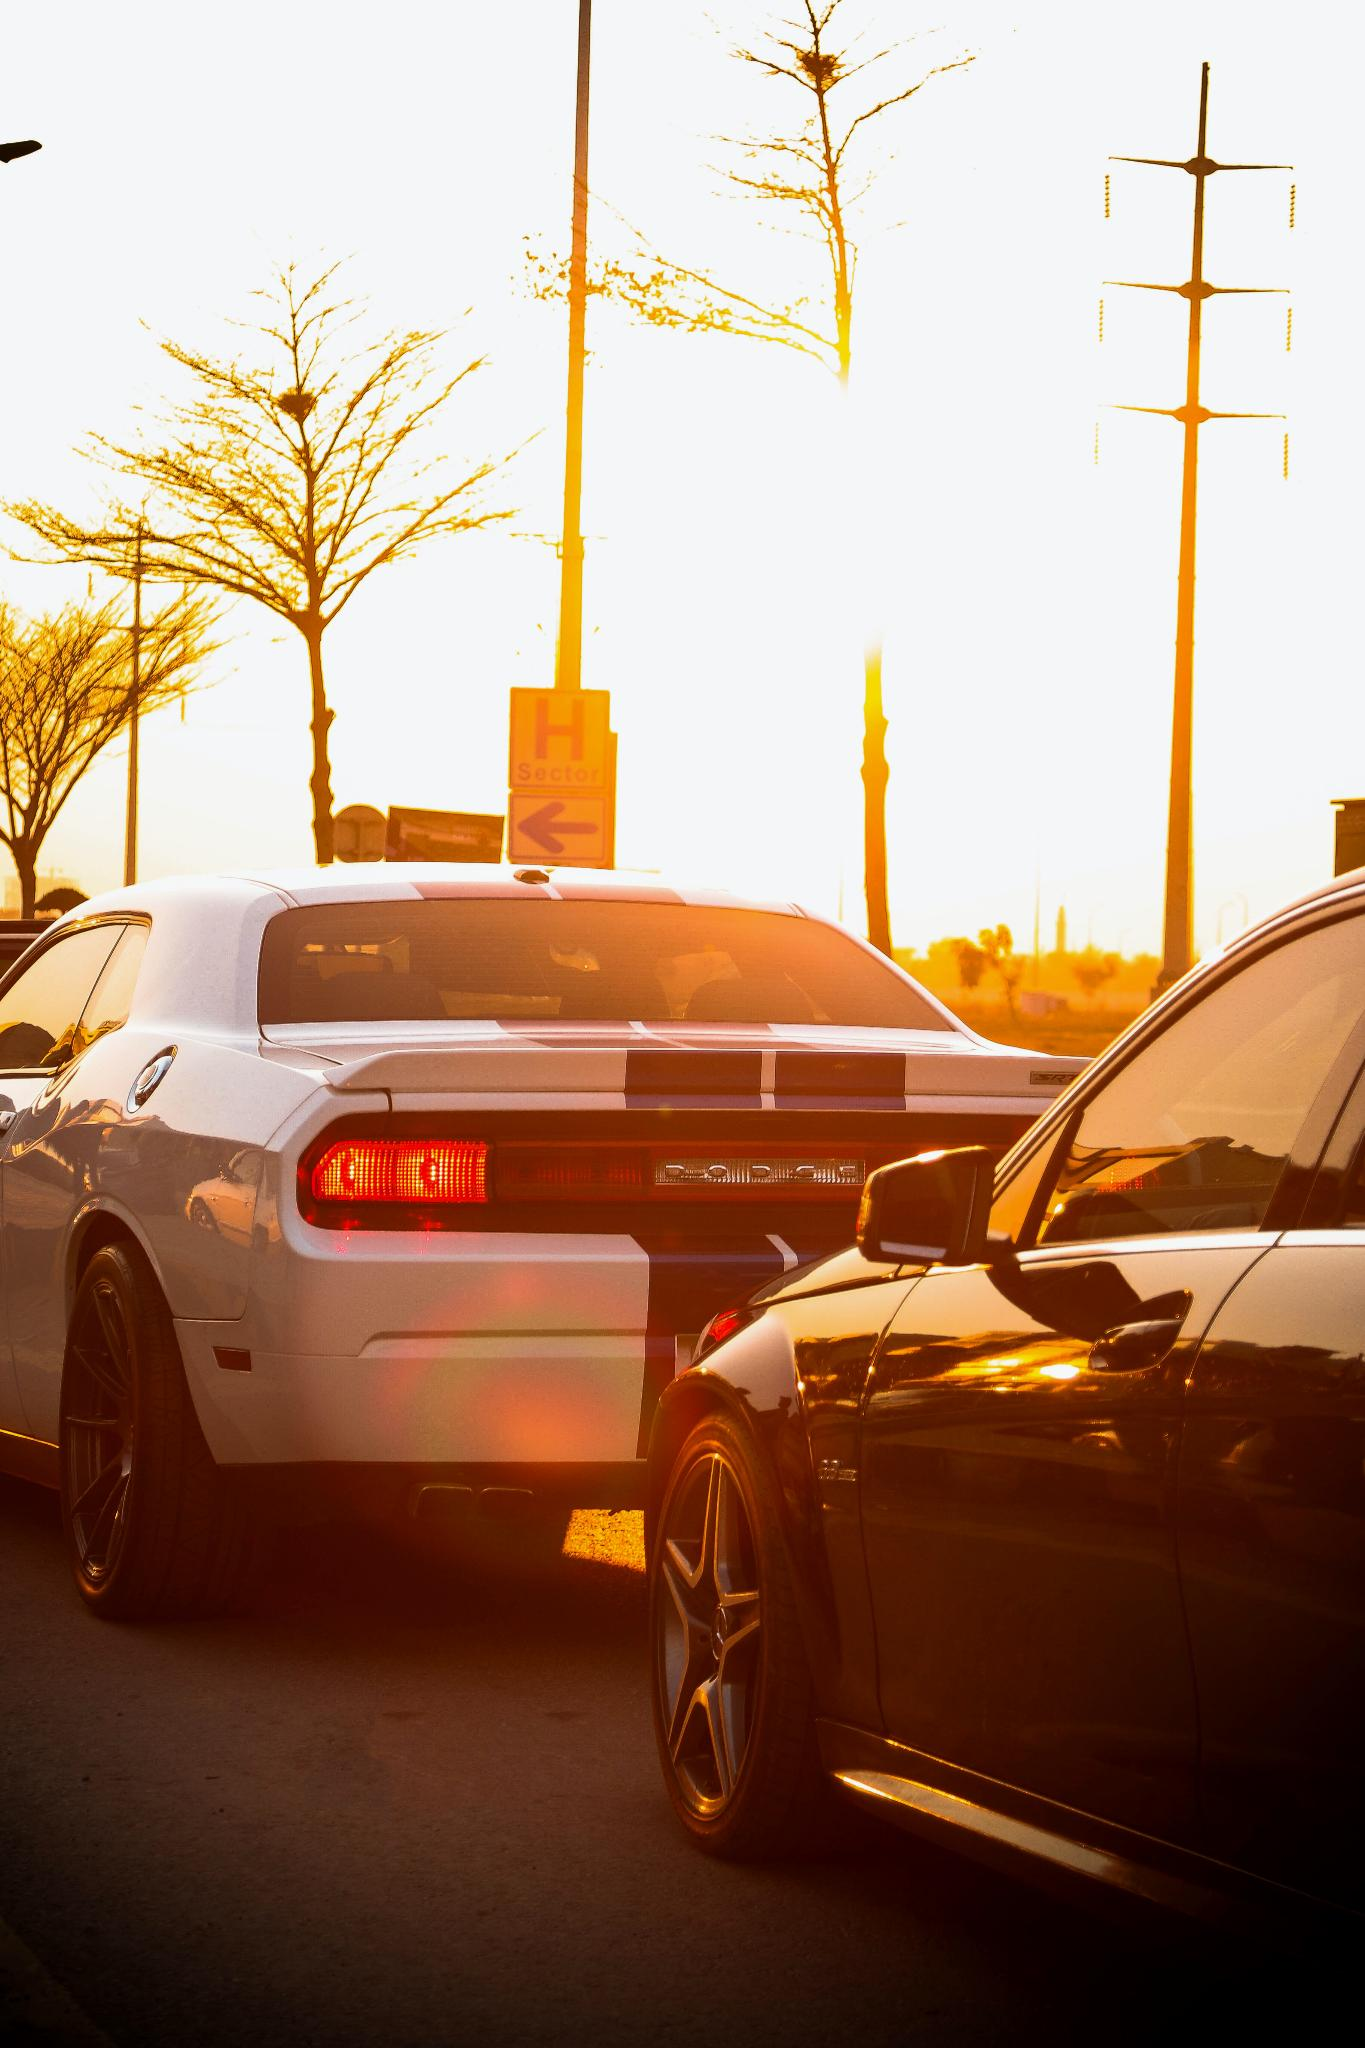dodge: (651, 1145, 877, 1201)
